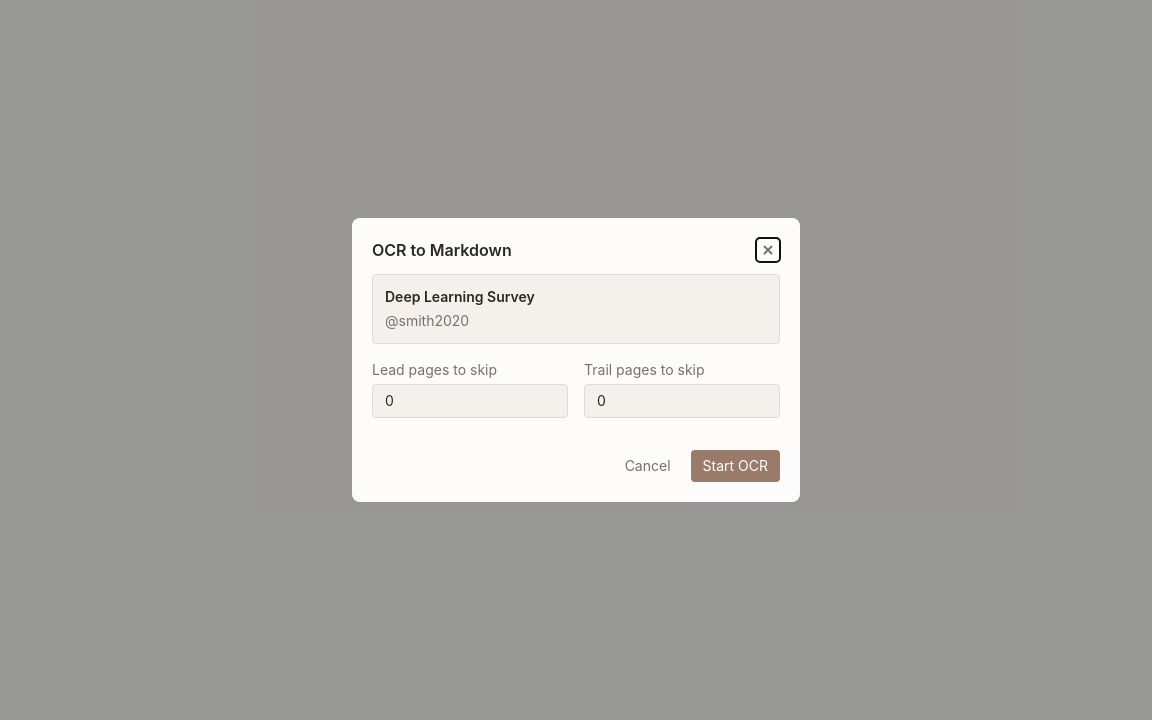
Test case: OcrDialog › overwrite confirmation cancel returns to dialog
Click the button with test id "ocr-start-btn" at (735, 466), box [690,450,780,482]
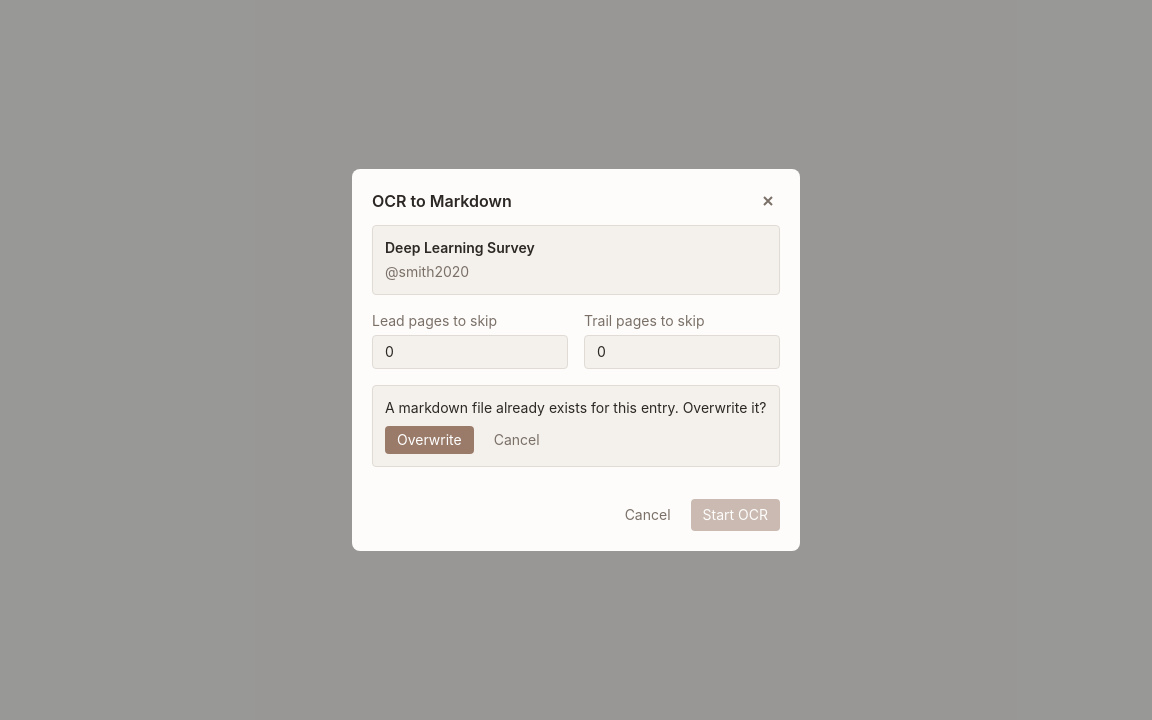
Expected: the element with test id "ocr-overwrite-confirm" is shown, [372,385,780,467]
Click the button with test id "ocr-overwrite-no" at (517, 440), box [482,426,552,454]
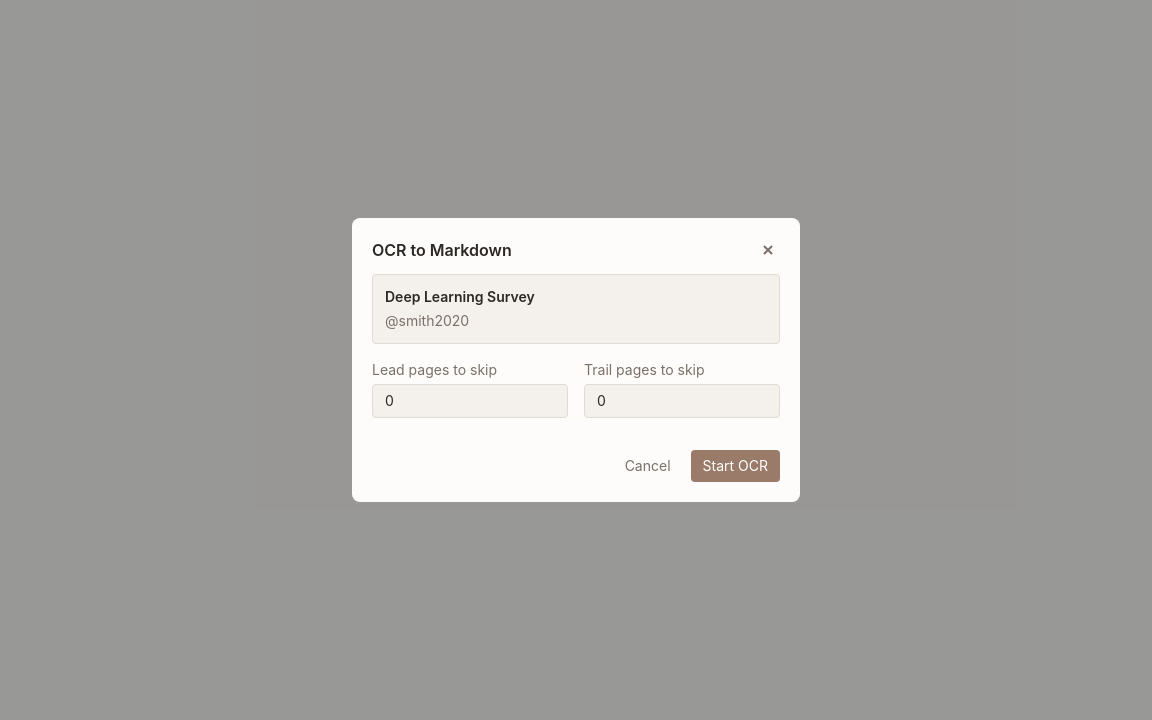
Expected: the element with test id "ocr-overwrite-confirm" is gone
Expected: the button with test id "ocr-start-btn" is enabled, [690,450,780,482]
